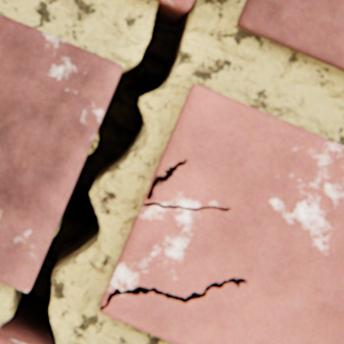brick: (99, 84, 343, 343), (0, 14, 122, 290), (236, 0, 343, 71), (0, 328, 36, 343), (156, 0, 192, 11)
crack: (0, 0, 193, 343), (99, 277, 246, 308), (146, 158, 187, 198), (142, 201, 230, 209)
